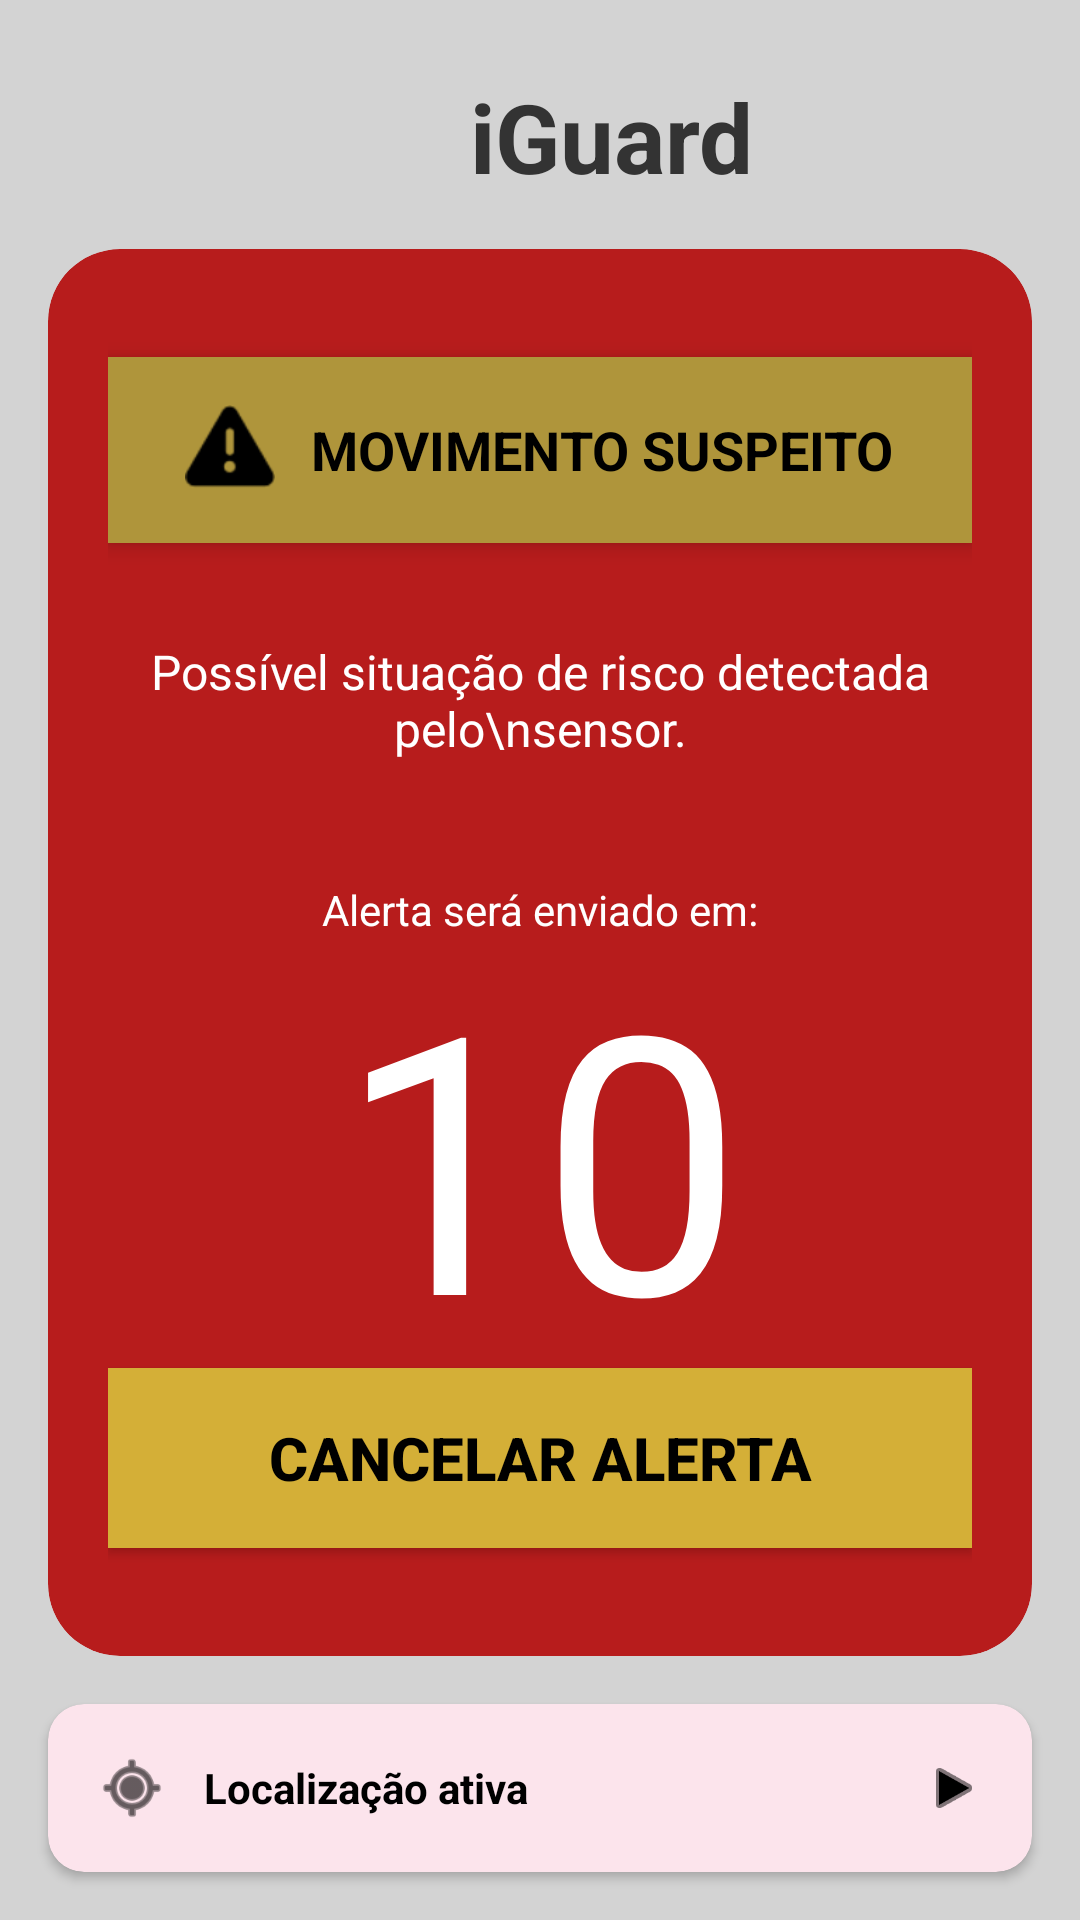

Where to tap for icons on this 1080×1920 app screen, as (x,y):
alert: (230,446)
mylocation: (132,1788)
play: (954,1788)
